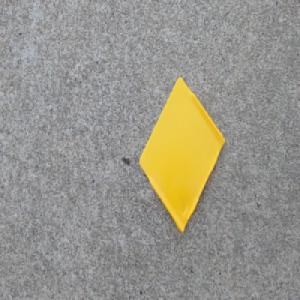PlasticPart: (138, 74, 227, 235)
